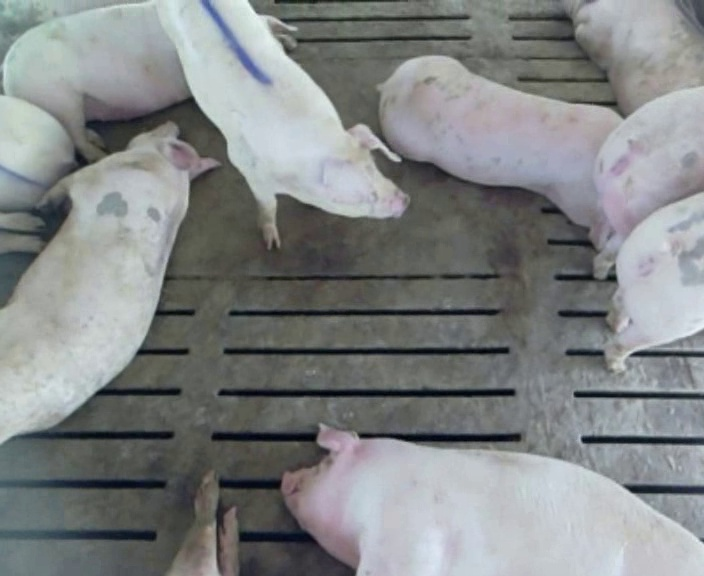pig: (0, 122, 218, 443), (282, 425, 703, 574), (157, 3, 407, 247), (379, 56, 621, 250), (594, 86, 703, 277), (605, 192, 703, 372), (566, 2, 703, 114), (166, 470, 238, 574), (0, 1, 114, 63)
